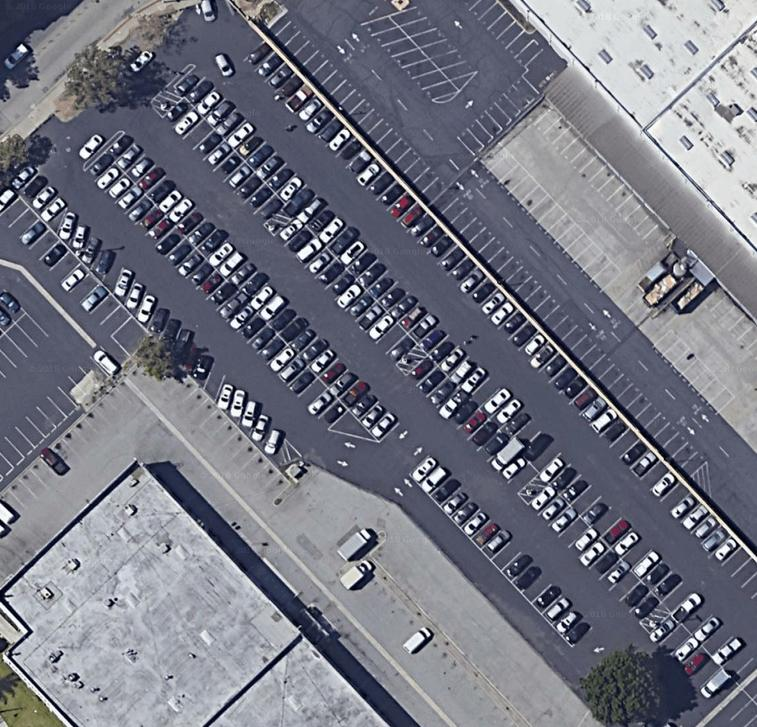parkingspot: (172, 63, 757, 689), (240, 40, 757, 609), (265, 13, 711, 483), (103, 129, 403, 444), (82, 151, 351, 433), (55, 203, 287, 472), (407, 453, 595, 649), (337, 557, 524, 727), (0, 363, 159, 543), (520, 93, 675, 253), (474, 141, 624, 295), (271, 214, 420, 369), (0, 186, 134, 340), (0, 333, 134, 484), (403, 354, 543, 498), (525, 483, 663, 627), (157, 366, 293, 505), (159, 96, 287, 229), (647, 612, 741, 712), (358, 14, 462, 103), (650, 329, 737, 418), (453, 73, 543, 159), (387, 5, 481, 83), (457, 0, 545, 71), (699, 285, 757, 365), (8, 159, 71, 227), (0, 311, 50, 386), (717, 687, 757, 727), (0, 287, 28, 340), (739, 673, 757, 707)
